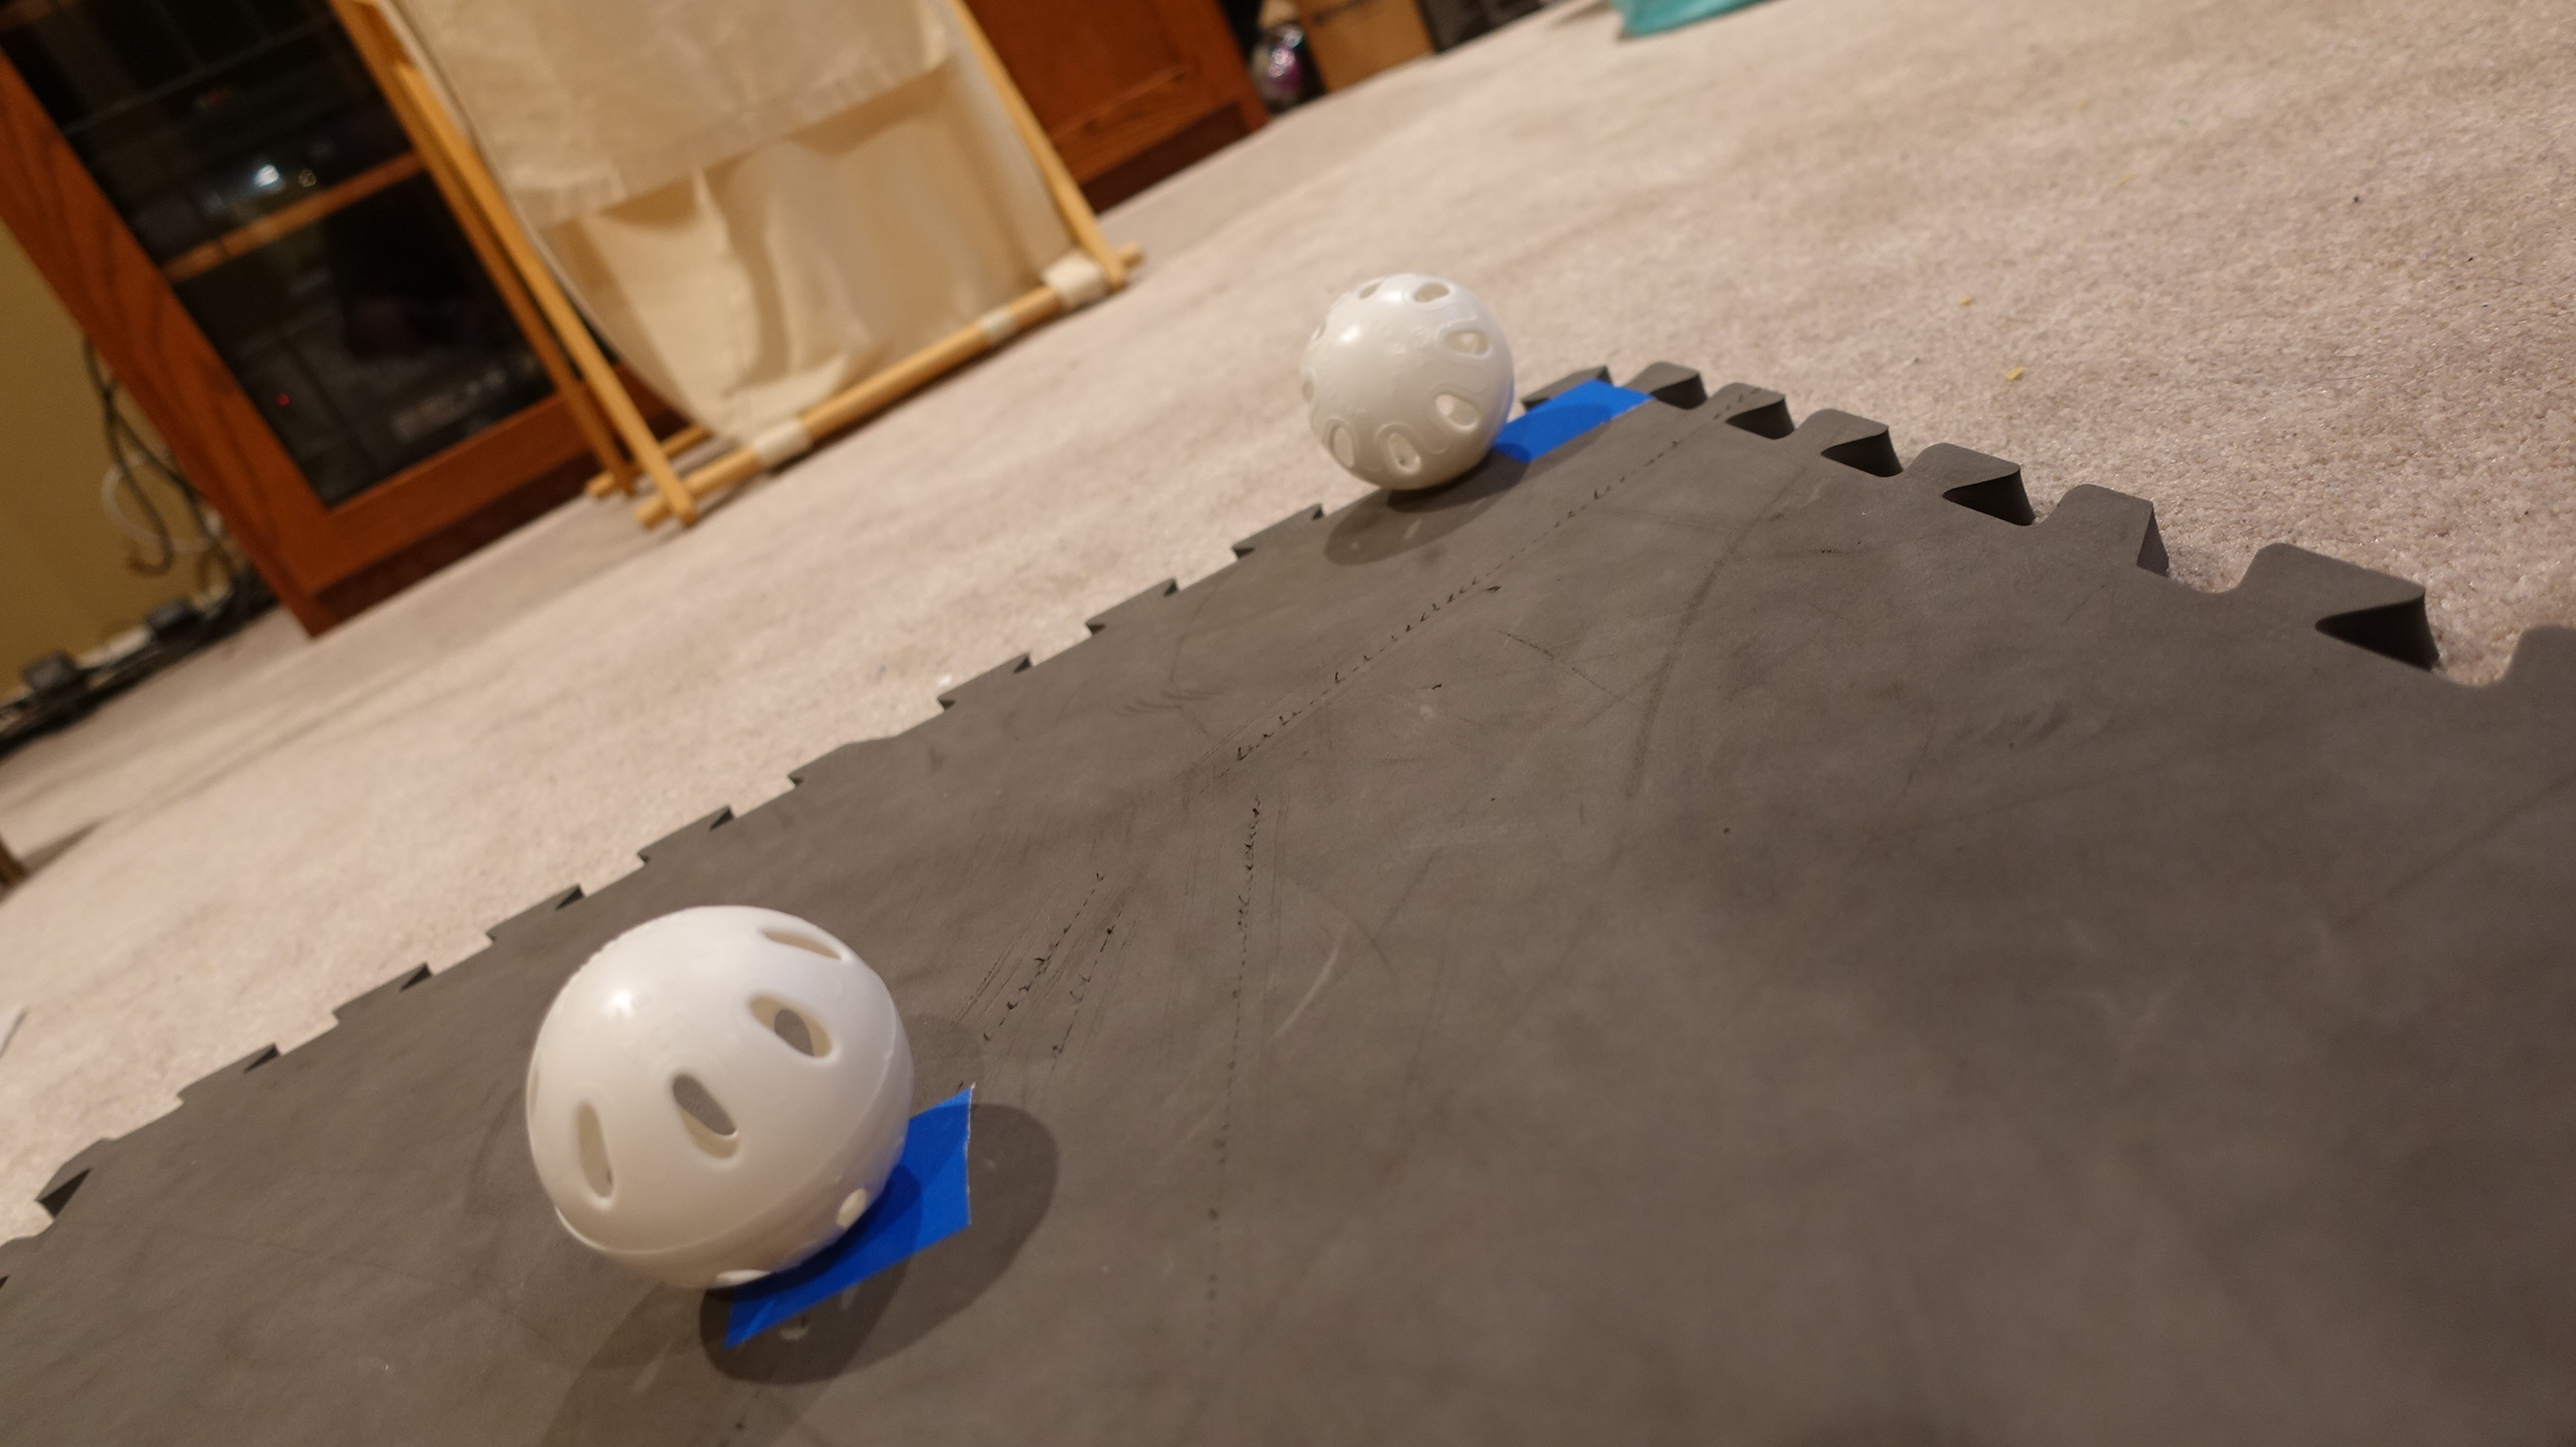silver: (513, 906, 924, 1298), (1288, 267, 1525, 497)
